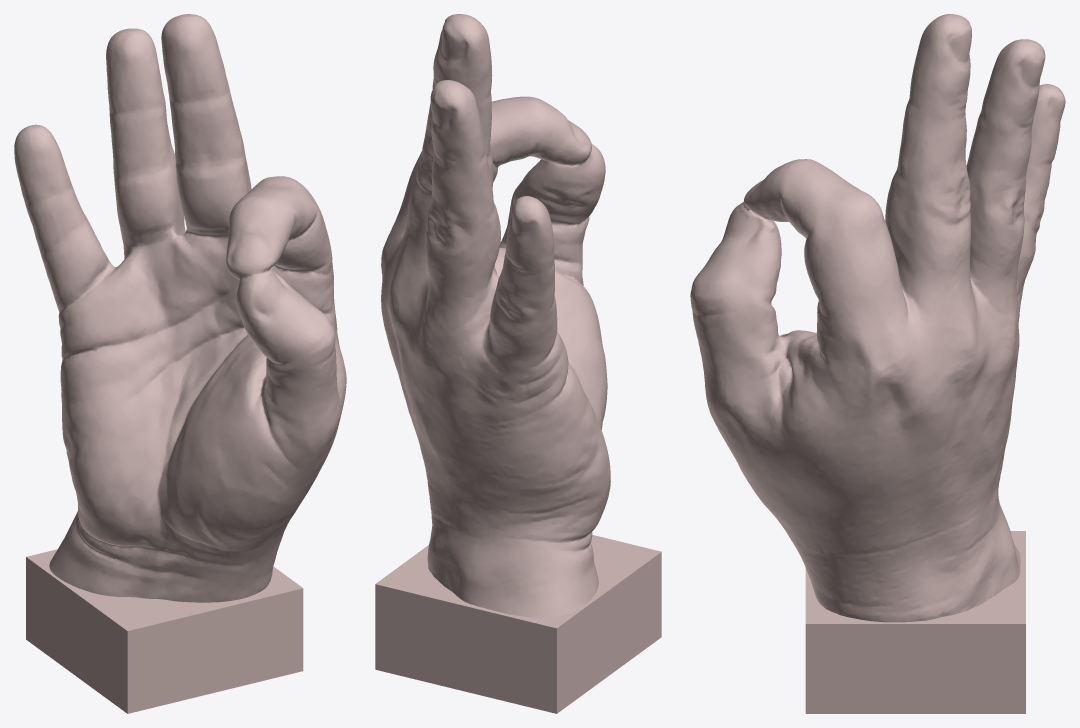
Rendered from hand.glb.
3 renders of one model, left to right at view 1: azimuth 30°, elevation 25°; view 2: azimuth 150°, elevation 25°; view 3: azimuth 270°, elevation 25°, orthographic. The views are drawn at different scales.
Visible parts, largest first — view 1: Object_2; view 2: Object_2; view 3: Object_2.
Boxes of the visible parts, x1,y1,x2,y2 form: Object_2: (14,14,346,713); Object_2: (375,14,661,713); Object_2: (690,14,1065,713).
Bounding box in the file's own units: 2.14 × 5.38 × 2.72.
